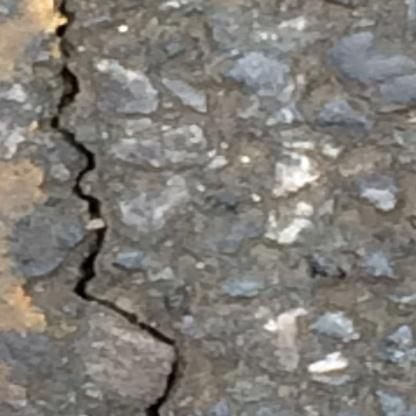Cracks: (47, 0, 184, 416)
